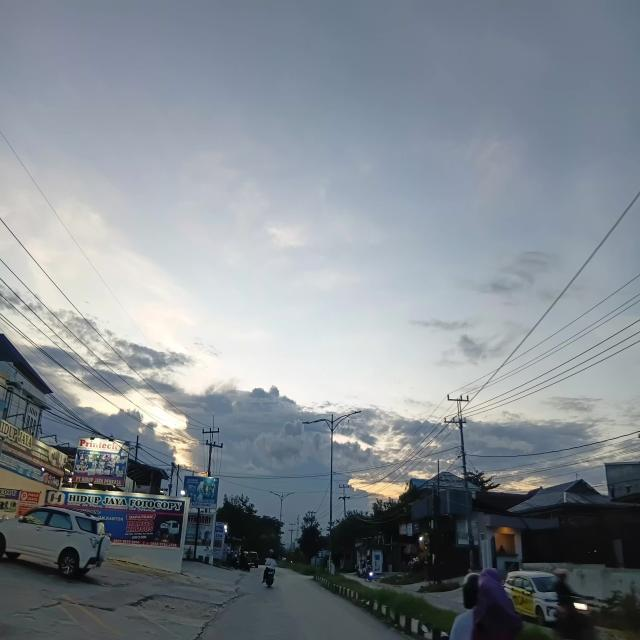cumulus: (17, 305, 639, 464)
